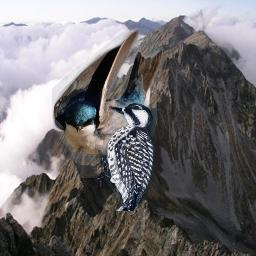Swallow: (52, 28, 164, 178)
Woodpecker: (95, 99, 157, 211)
